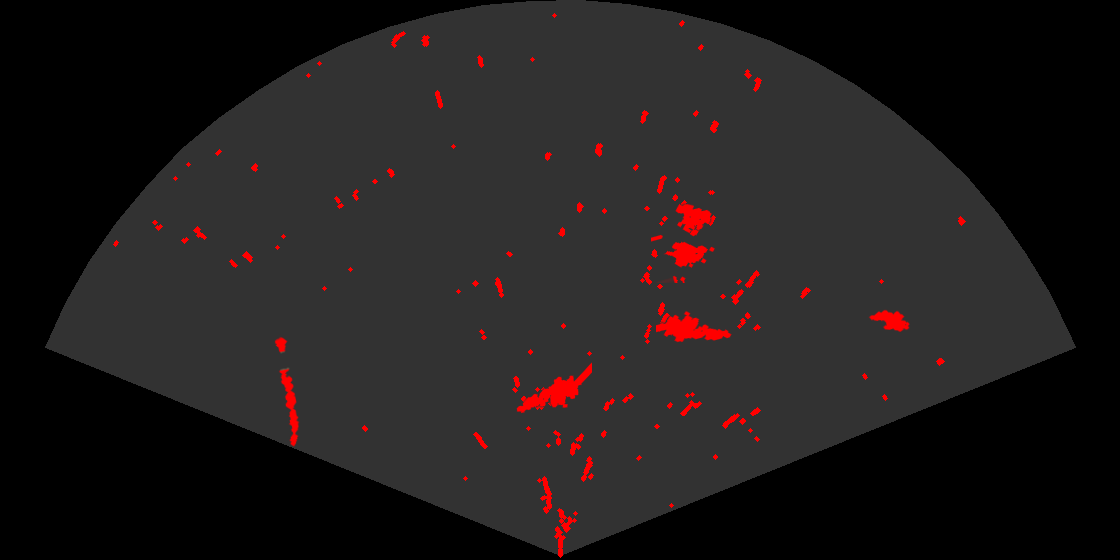AUV: (867, 308, 911, 333)
cage: (651, 202, 716, 283)
chain: (273, 334, 301, 448)
frogman: (515, 361, 592, 415), (656, 309, 733, 344)
